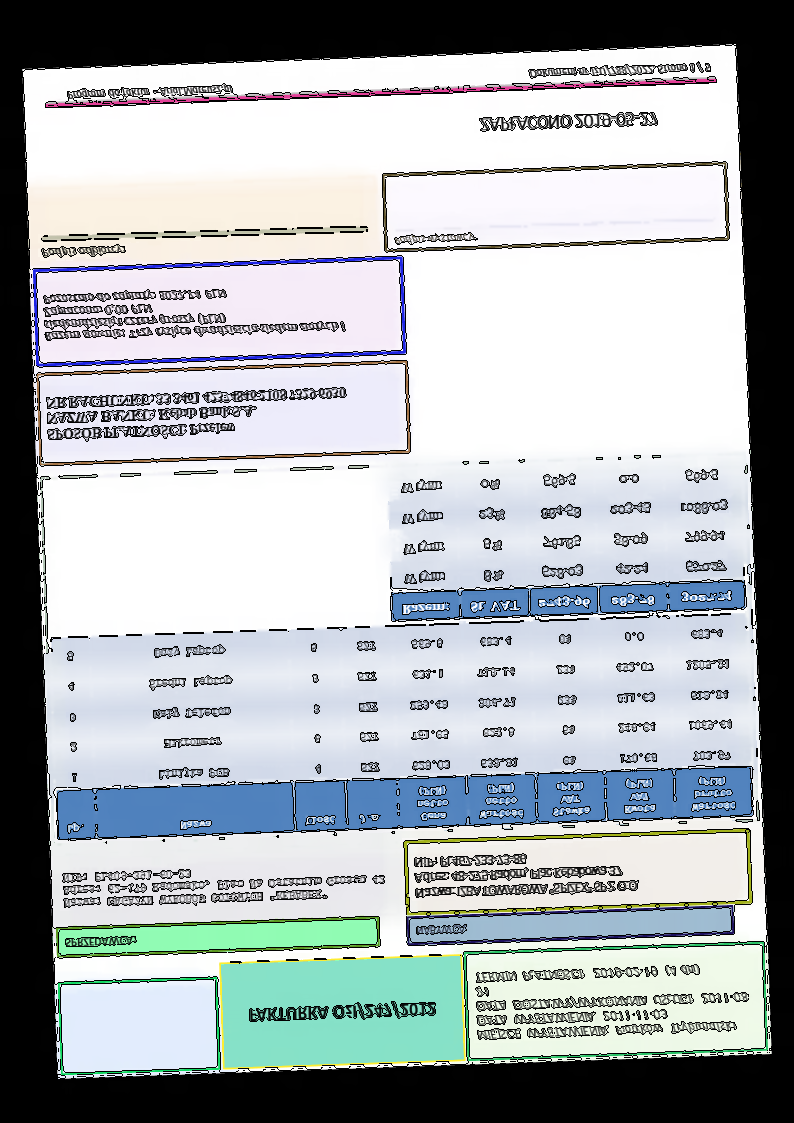Table: (49, 613, 754, 843), (386, 457, 746, 622)
TextBox: (471, 960, 754, 1044), (41, 282, 348, 344), (44, 384, 348, 445), (60, 860, 386, 910), (411, 848, 640, 900), (246, 998, 438, 1025), (477, 110, 661, 136), (527, 60, 712, 81), (63, 82, 236, 103), (38, 243, 126, 260), (62, 932, 138, 950), (393, 231, 478, 247), (412, 921, 469, 939)
